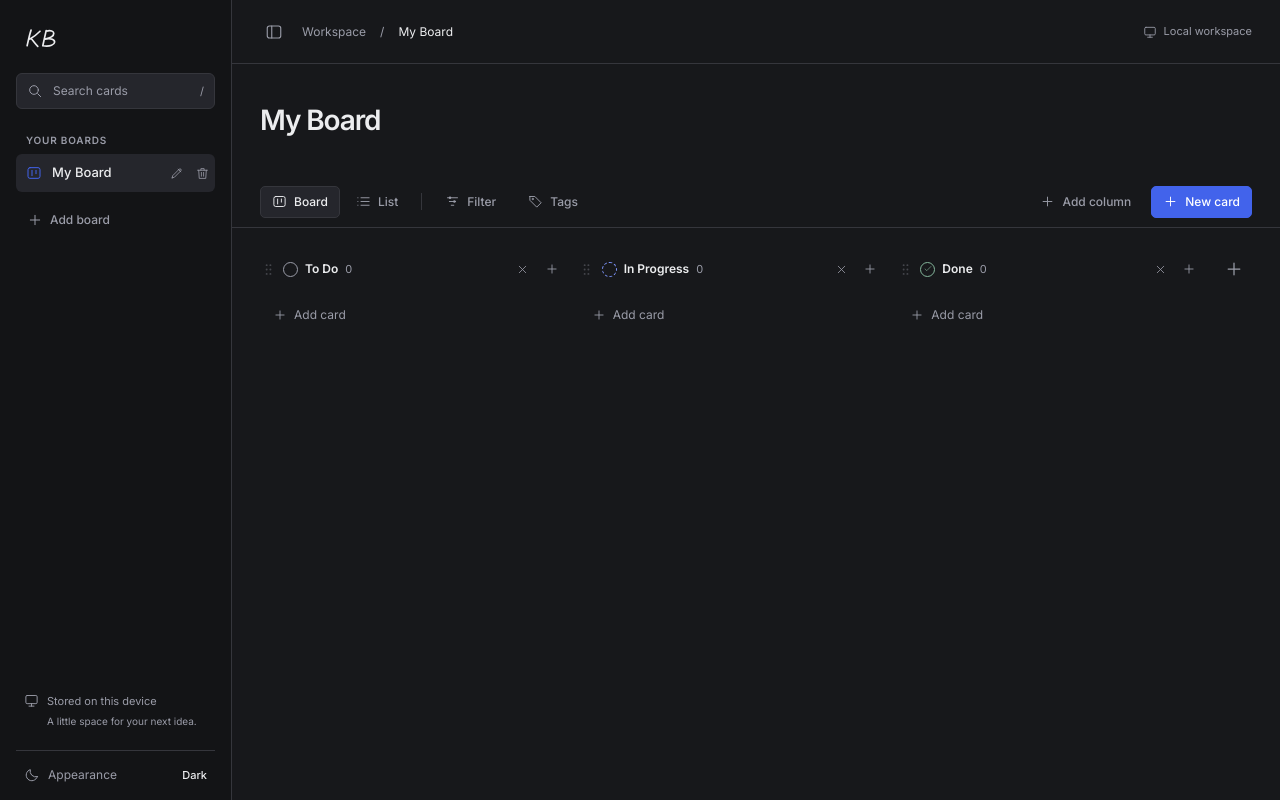
SPEC §2 Card management › deletes via card ×
Expected: the heading "My Board" is shown, [260,102,380,138]
Click the 1st button "Add card": [320, 314] box [260,297,563,333]
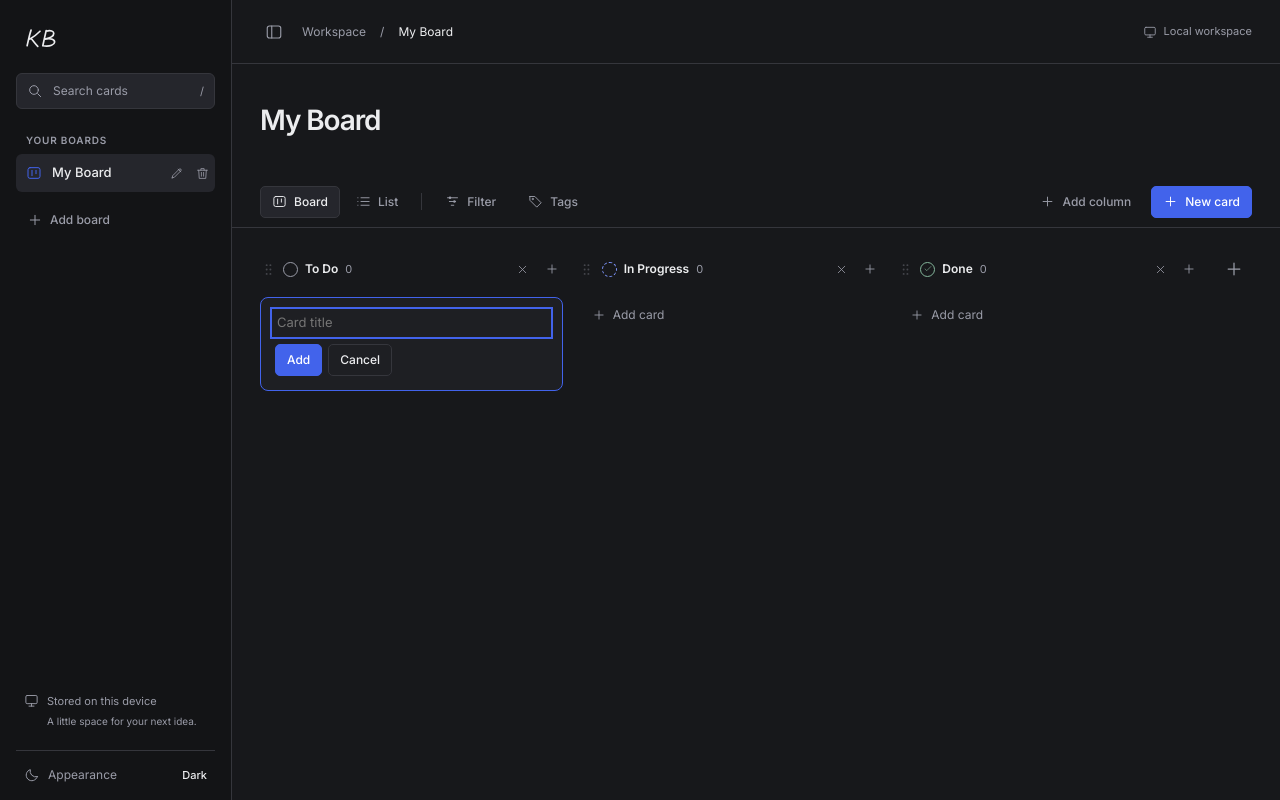
In the field with placeholder "Card title": [411, 323] box [275,312,548,334], type "Gone"
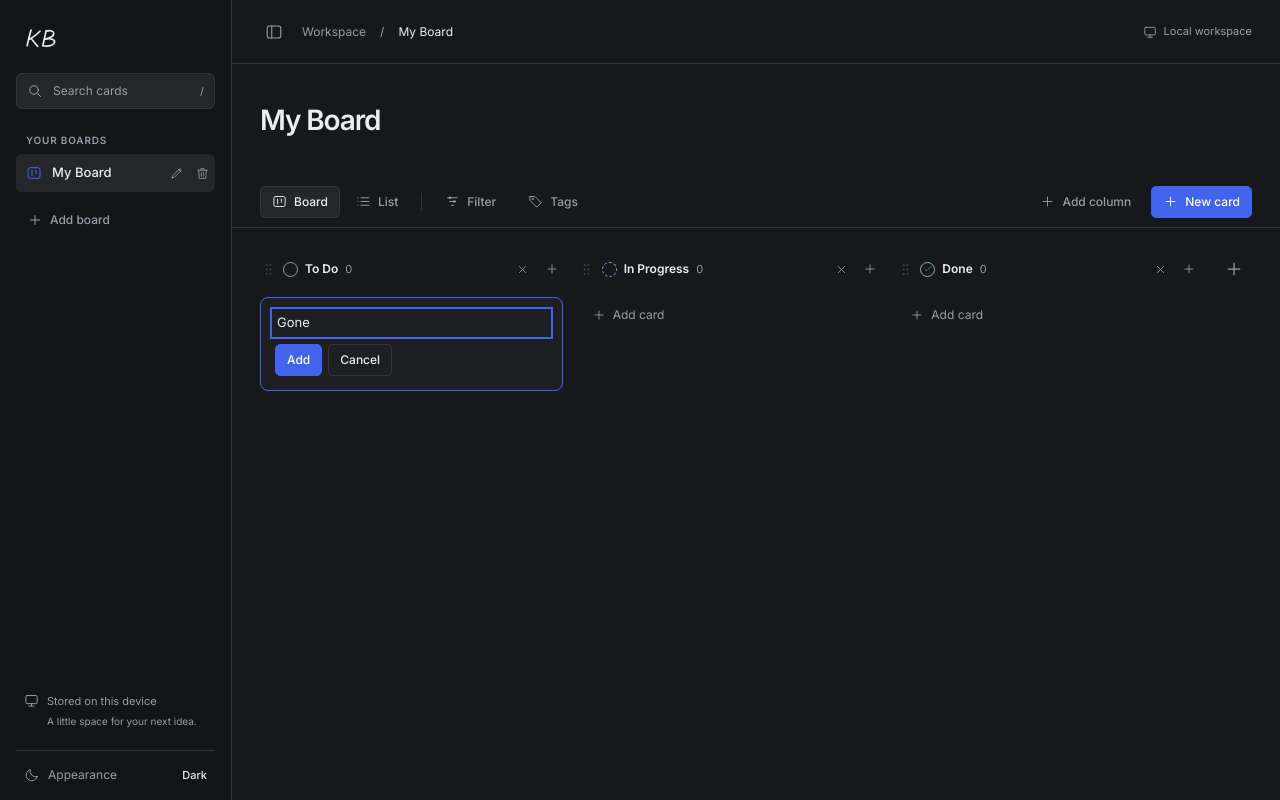
Click the button "Add": [299, 360] box [275,344,322,376]
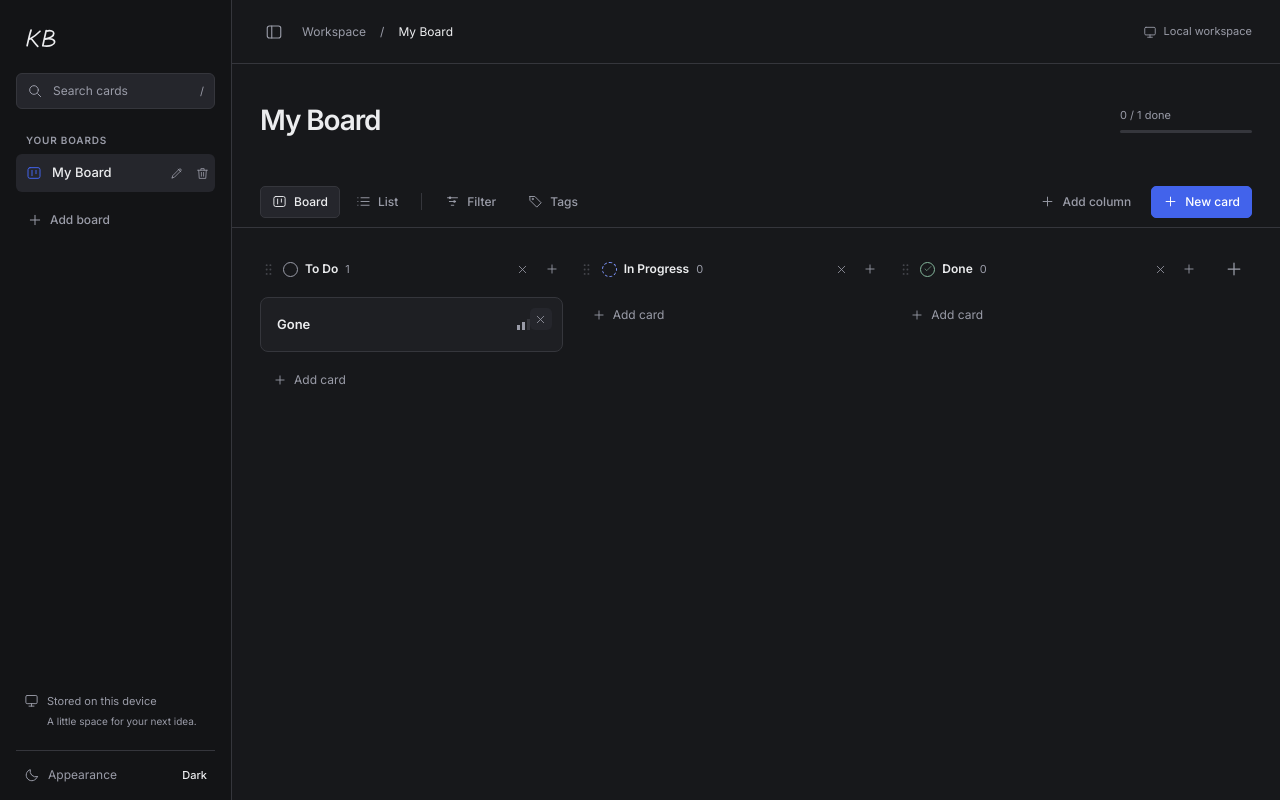
Expected: the heading "Gone" is shown, [277,316,310,332]
Click the button named "Delete Gone": [541, 319] box [530,308,552,330]
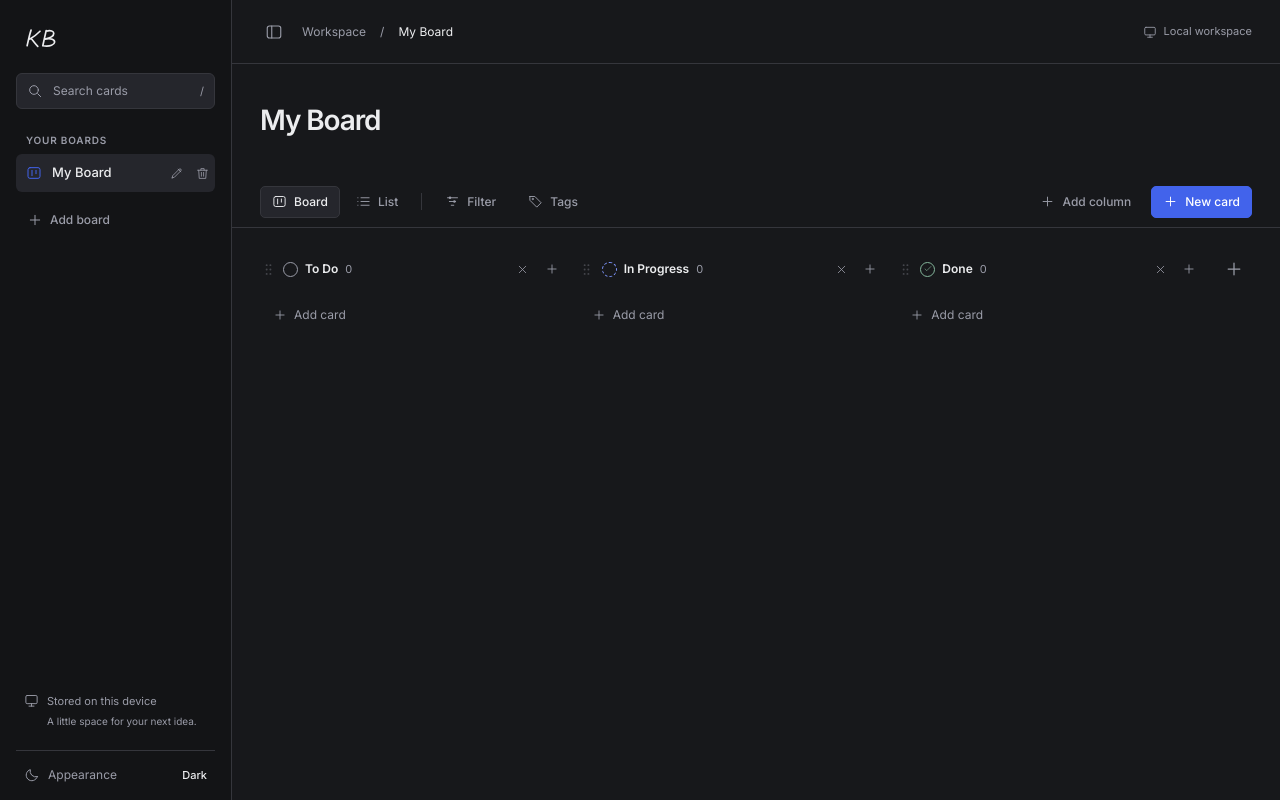
Expected: the button "Gone" is gone
